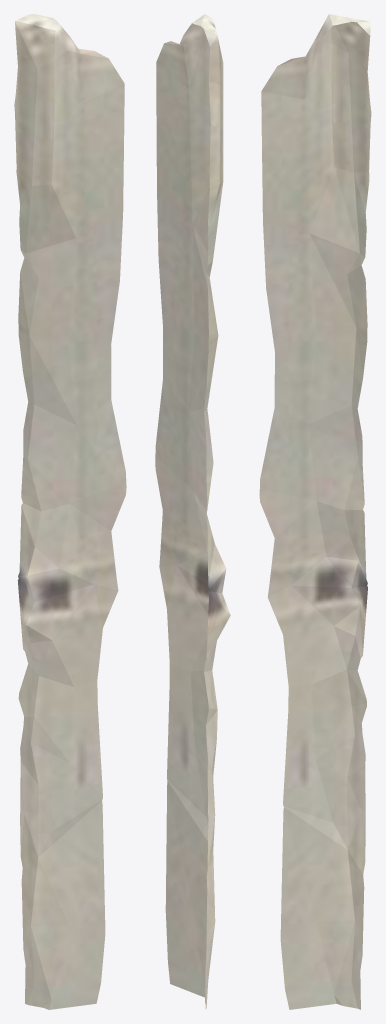
Rendered from Tile_+001_+005_L21_0003030.glb.
The picture shows the model from 3 angles, left to right: view 1: azimuth 90°, elevation 25°; view 2: azimuth 210°, elevation 25°; view 3: azimuth 270°, elevation 25°; orthographic projection.
Visible parts, largest first — view 1: rtc; view 2: rtc; view 3: rtc.
Boxes of the visible parts, left/top/right/bottom form: rtc: left=14, top=14, right=126, bottom=1009; rtc: left=155, top=14, right=230, bottom=1009; rtc: left=259, top=14, right=371, bottom=1009.
Size of the model in its own units: 0.383 by 13.97 by 1.43.
1 material, 1 textured.
